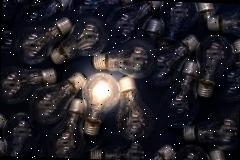lightbulb: (0, 0, 240, 160), (50, 15, 110, 66), (14, 15, 73, 66), (114, 76, 156, 142), (92, 37, 156, 79), (80, 72, 120, 136)
